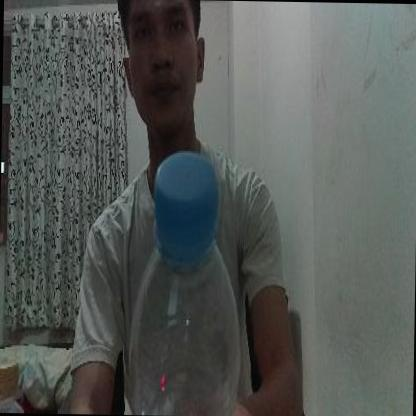plastic_bottles: (128, 149, 243, 416)
